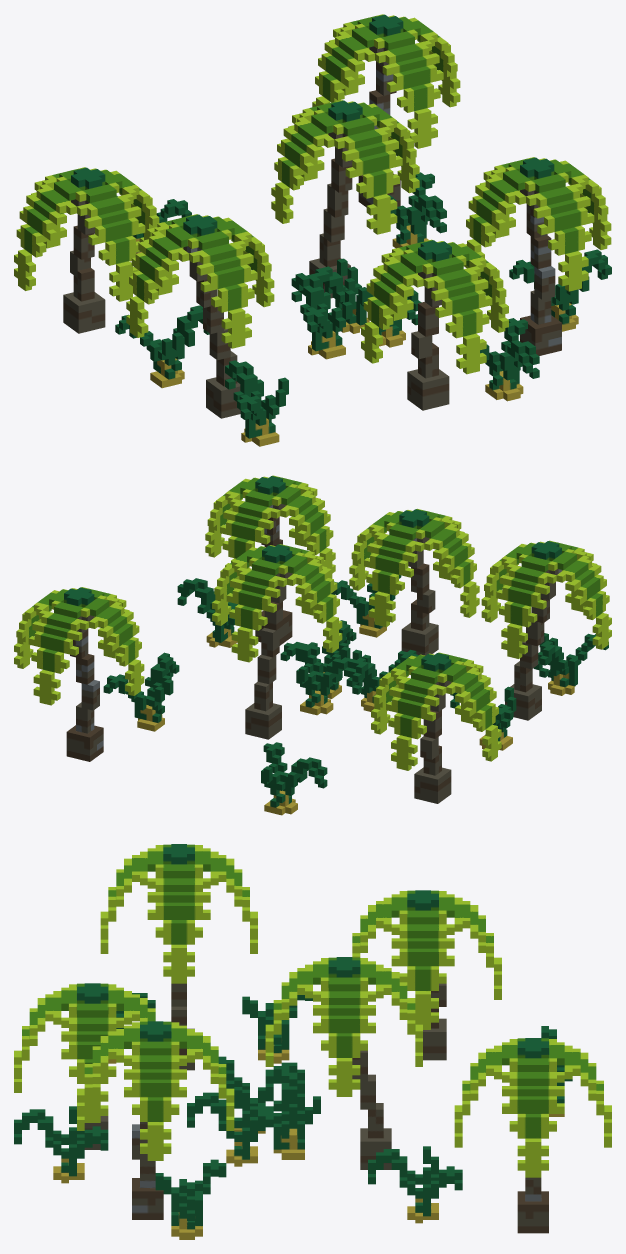
Rendered from palms_3_overtile.glb.
3 views of the same model, one above another, from view 1: azimuth 30°, elevation 25°; view 2: azimuth 150°, elevation 25°; view 3: azimuth 270°, elevation 25° (orthographic). The views are drawn at different scales.
Visible parts, largest first — view 1: palms_3_overtile; view 2: palms_3_overtile; view 3: palms_3_overtile.
Boxes of the visible parts, x1,y1,x2,y2 form: palms_3_overtile: [14, 14, 611, 446]; palms_3_overtile: [14, 475, 611, 815]; palms_3_overtile: [14, 844, 611, 1239].
Bounding box in the file's own units: 7.4 × 2.8 × 7.6.
1 material, 1 textured.
